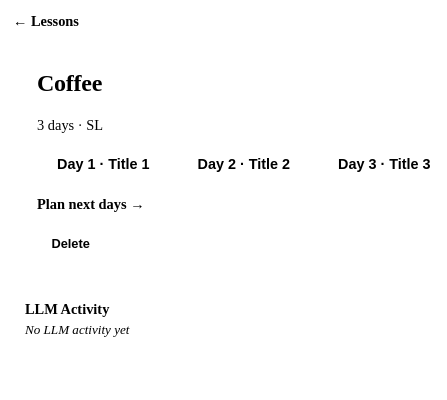
Delete curriculum › stays on the page and shows the error when the delete fails
The image size is (447, 400).
Click the button with aria-label "Delete Coffee" at (71, 243), box [37,229,104,257]
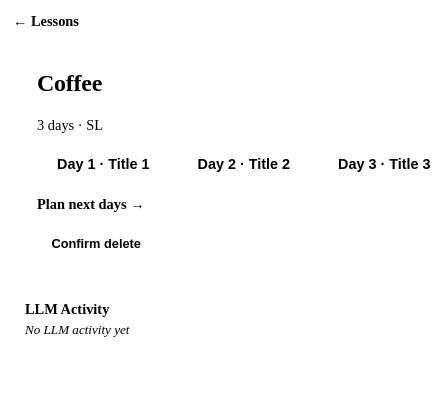
Click the button with aria-label "Confirm delete Coffee" at (96, 243), box [37,229,155,257]
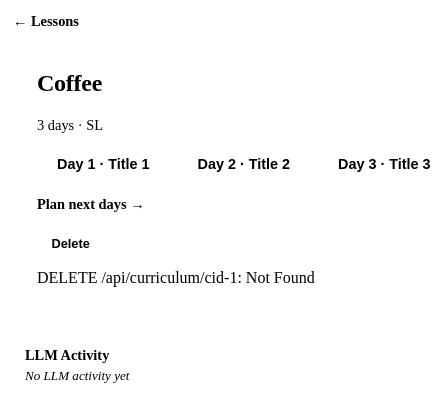
Expected: the button with aria-label "Delete Coffee" is enabled, [37,229,104,257]
Result: the text "DELETE /api/curriculum/cid-1: Not Found" is shown at [37,269,315,286]
